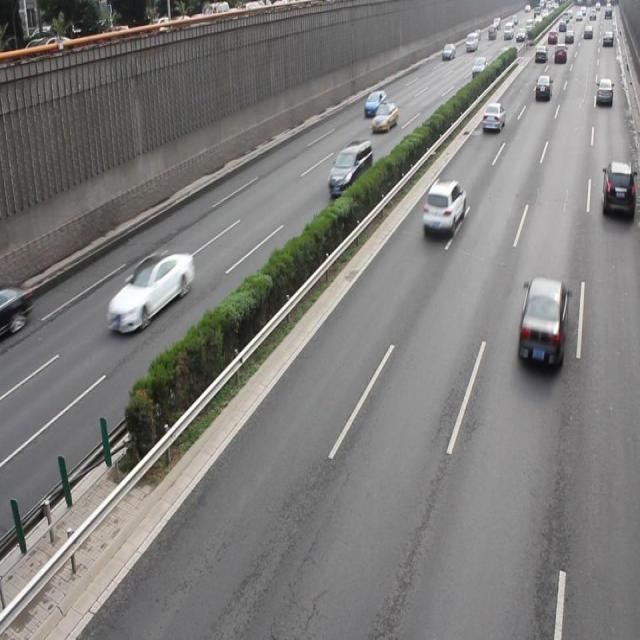car: (108, 251, 194, 330), (514, 274, 566, 370), (420, 177, 466, 237), (600, 158, 640, 219), (1, 280, 33, 336), (372, 100, 398, 132), (480, 99, 502, 134), (362, 89, 384, 115)
truck: (327, 140, 370, 195)
